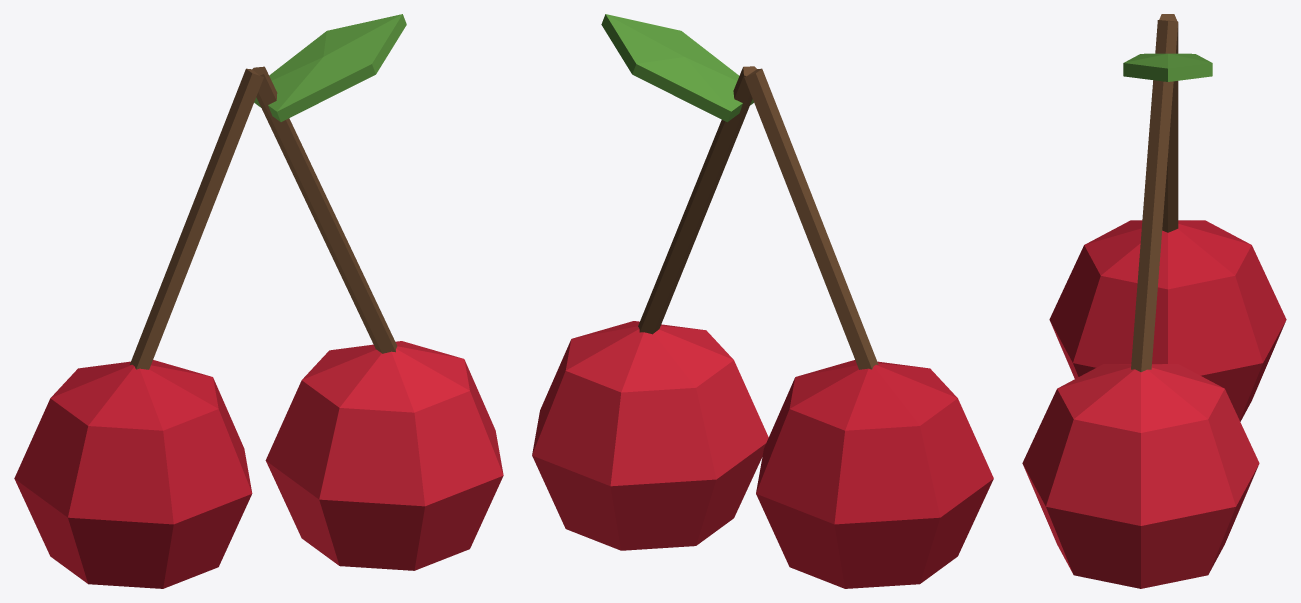
File: Food_Cherry.obj
3 renders of one model, left to right at view 1: azimuth 30°, elevation 25°; view 2: azimuth 150°, elevation 25°; view 3: azimuth 270°, elevation 25°, orthographic.
Size of the model in its own units: 1.86 by 2.16 by 0.9774.
